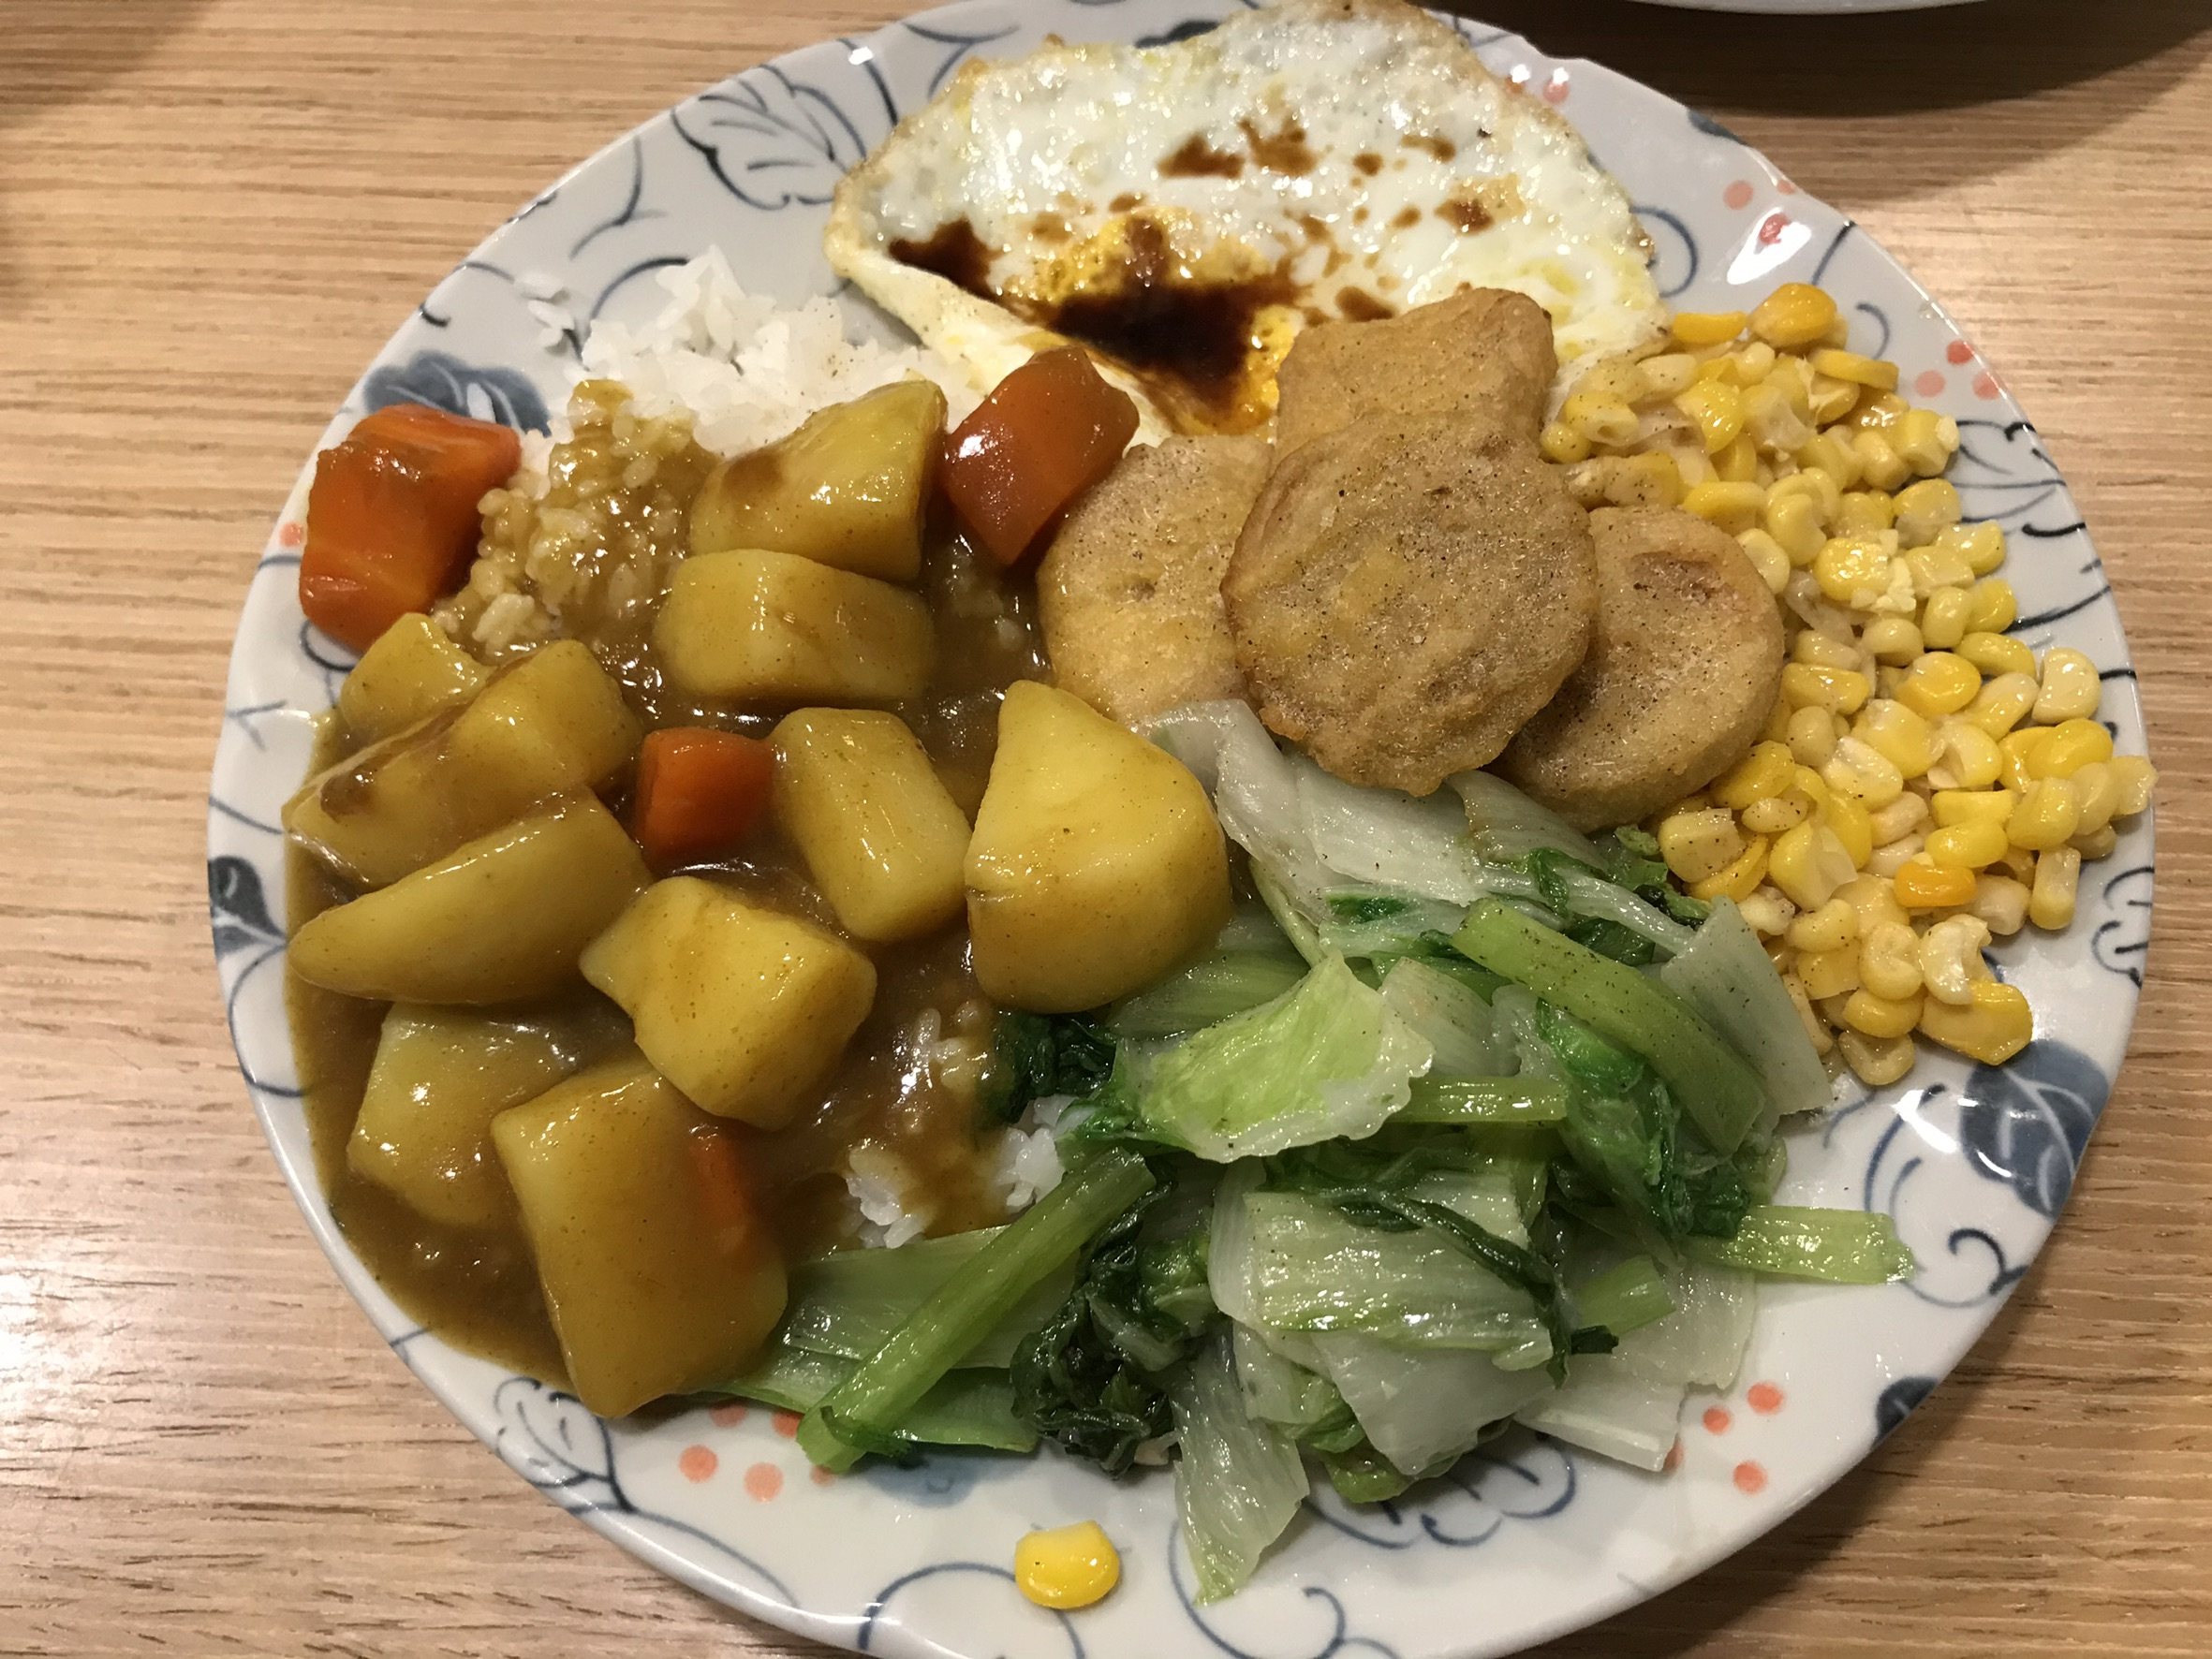chicken_nuggets: (1096, 308, 1787, 767)
curry: (303, 383, 1137, 1361)
fried_eggs: (826, 2, 1658, 307)
